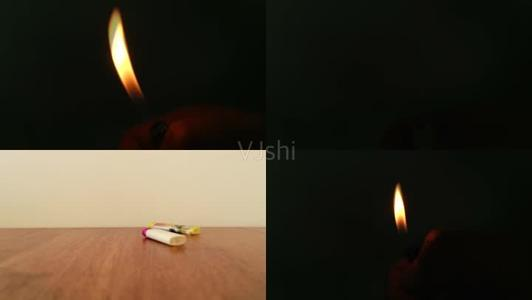fire: (98, 12, 164, 104), (383, 172, 418, 239)
